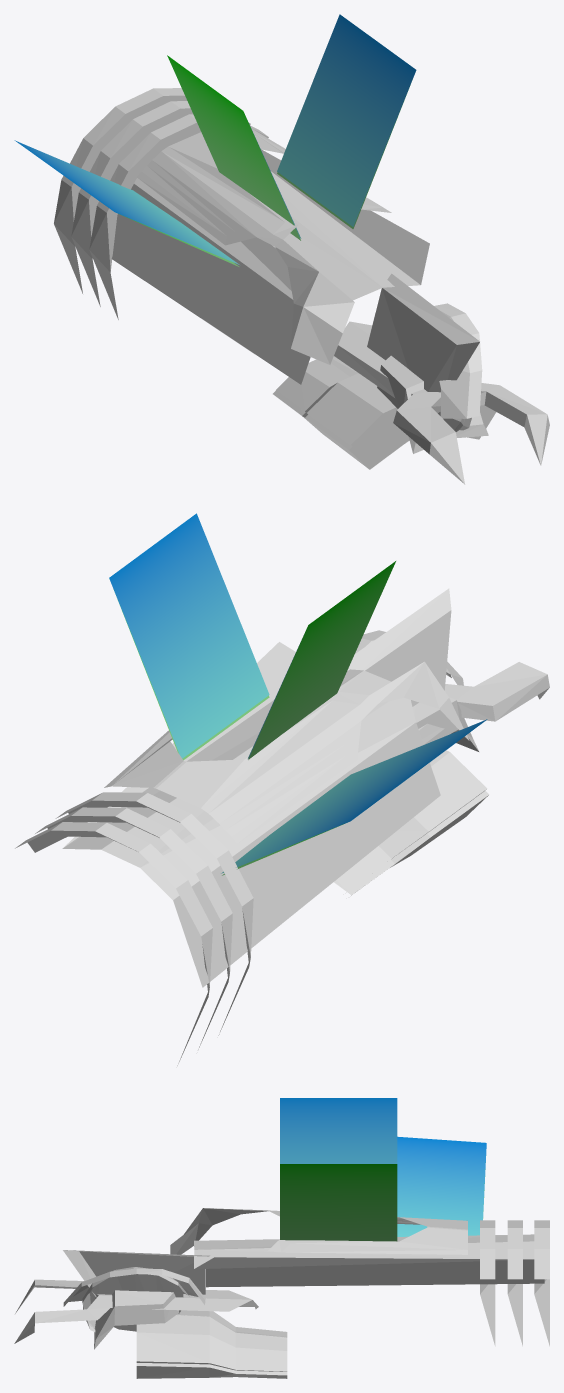
The model's file is SamusGun_img_03.dae.
3 views of the same model, one above another, from view 1: azimuth 30°, elevation 25°; view 2: azimuth 150°, elevation 25°; view 3: azimuth 270°, elevation 25° (orthographic). The views are drawn at different scales.
Visible parts, largest first — view 1: geom2_obj, geom9_obj, geom1_obj, geom7_obj, geom8_obj, geom10_obj, geom19_obj, geom20_obj, geom21_obj, geom22_obj, geom5_obj, geom16_obj (+4 smaller); view 2: geom2_obj, geom9_obj, geom1_obj, geom10_obj, geom8_obj, geom5_obj, geom19_obj, geom20_obj, geom7_obj, geom22_obj, geom21_obj, geom16_obj (+1 smaller); view 3: geom9_obj, geom2_obj, geom10_obj, geom16_obj, geom1_obj, geom7_obj, geom8_obj, geom6_obj, geom19_obj, geom4_obj, geom20_obj, geom22_obj (+4 smaller).
Boxes of the visible parts, bbox=[...] form: geom2_obj: bbox=[111, 149, 429, 384]; geom9_obj: bbox=[14, 14, 416, 264]; geom1_obj: bbox=[137, 132, 391, 364]; geom7_obj: bbox=[334, 321, 549, 484]; geom8_obj: bbox=[367, 273, 479, 392]; geom10_obj: bbox=[126, 55, 410, 266]; geom19_obj: bbox=[276, 357, 495, 465]; geom20_obj: bbox=[54, 88, 187, 293]; geom21_obj: bbox=[71, 101, 250, 306]; geom22_obj: bbox=[89, 114, 268, 319]; geom5_obj: bbox=[142, 129, 382, 235]; geom16_obj: bbox=[273, 356, 492, 469]; geom2_obj: bbox=[62, 642, 440, 987]; geom9_obj: bbox=[109, 513, 487, 873]; geom1_obj: bbox=[112, 661, 469, 843]; geom10_obj: bbox=[122, 561, 395, 875]; geom8_obj: bbox=[347, 588, 451, 706]; geom5_obj: bbox=[104, 700, 359, 836]; geom19_obj: bbox=[337, 750, 487, 890]; geom20_obj: bbox=[15, 822, 212, 1065]; geom7_obj: bbox=[418, 662, 549, 744]; geom22_obj: bbox=[55, 792, 253, 1035]; geom21_obj: bbox=[35, 807, 232, 1049]; geom16_obj: bbox=[337, 790, 489, 895]; geom9_obj: bbox=[280, 1098, 486, 1236]; geom2_obj: bbox=[194, 1234, 544, 1287]; geom10_obj: bbox=[280, 1164, 485, 1241]; geom16_obj: bbox=[136, 1315, 287, 1371]; geom1_obj: bbox=[170, 1208, 467, 1254]; geom7_obj: bbox=[14, 1279, 258, 1343]; geom8_obj: bbox=[63, 1250, 209, 1297]; geom6_obj: bbox=[94, 1290, 179, 1349]; geom19_obj: bbox=[136, 1310, 287, 1378]; geom4_obj: bbox=[82, 1267, 189, 1331]; geom20_obj: bbox=[534, 1220, 549, 1346]; geom22_obj: bbox=[480, 1220, 495, 1346].
Bounding box in the file's own units: 0.1606 × 0.1753 × 0.3499.
